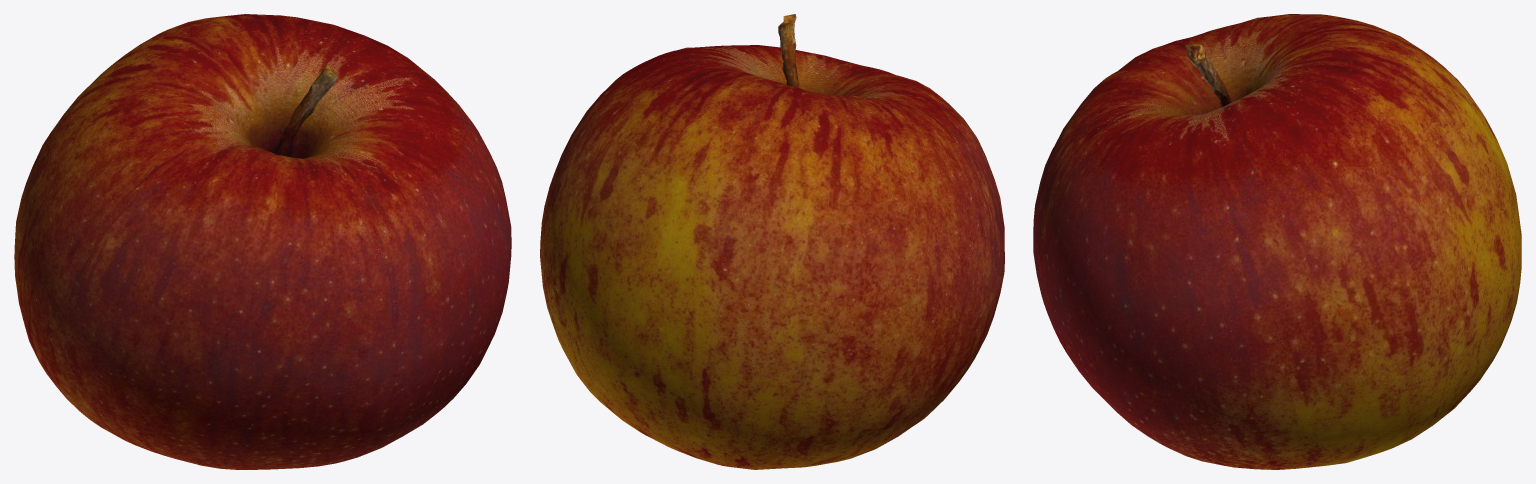
The model's file is apple.glb.
3 renders of one model, left to right at view 1: azimuth 30°, elevation 25°; view 2: azimuth 150°, elevation 25°; view 3: azimuth 270°, elevation 25°, orthographic. The views are drawn at different scales.
Parts seen in each view (by area): view 1: apple; view 2: apple; view 3: apple.
Part boxes in pixels (box(x1,y1,x2,y2)): apple: box(14, 14, 511, 469); apple: box(540, 14, 1004, 469); apple: box(1033, 14, 1521, 469).
Size of the model in its own units: 0.0976 by 0.0853 by 0.0959.
1 material, 1 textured.
